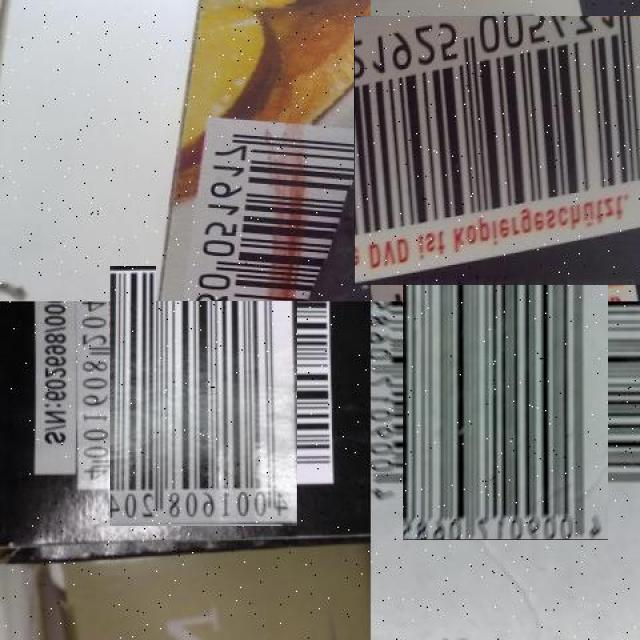Barcode: (362, 8, 640, 294), (386, 286, 624, 524), (92, 284, 316, 508), (156, 116, 371, 301)
